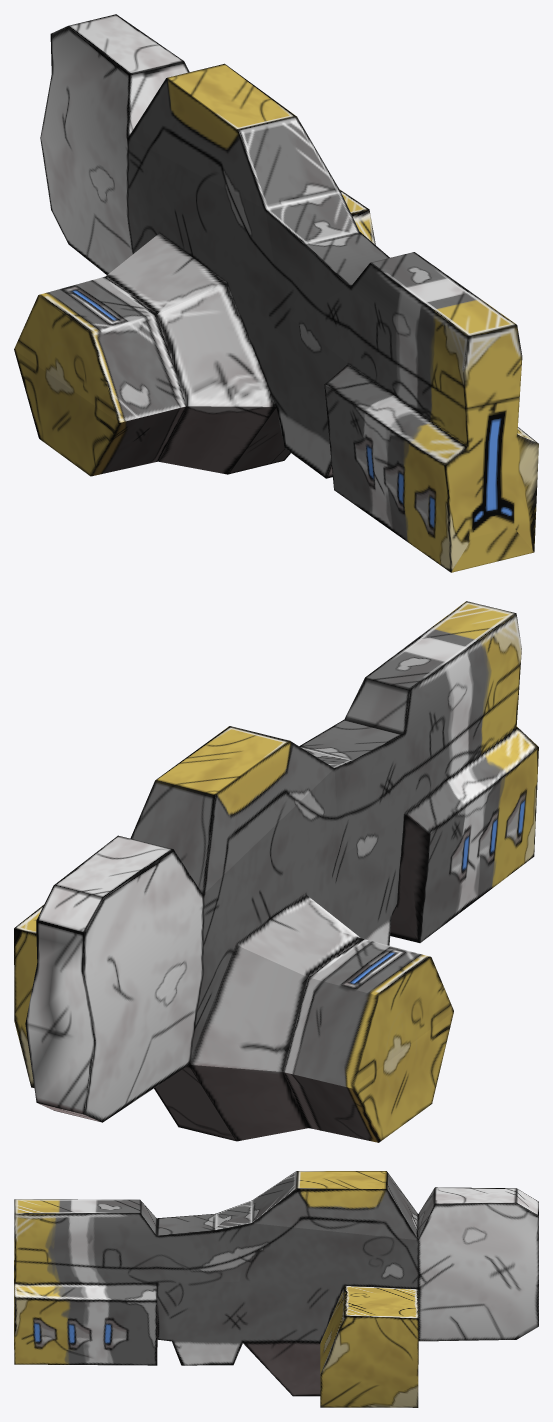
Rendered from PulseLaser_v1.fbx.
3 views of the same model, one above another, from view 1: azimuth 30°, elevation 25°; view 2: azimuth 150°, elevation 25°; view 3: azimuth 270°, elevation 25° (orthographic). The views are drawn at different scales.
Visible parts, largest first — view 1: pCube1; view 2: pCube1; view 3: pCube1.
Boxes of the visible parts, x1,y1,x2,y2 form: pCube1: (14, 14, 538, 572); pCube1: (14, 601, 538, 1142); pCube1: (14, 1171, 538, 1407).
Size of the model in its own units: 0.9509 by 0.9816 by 2.2.
